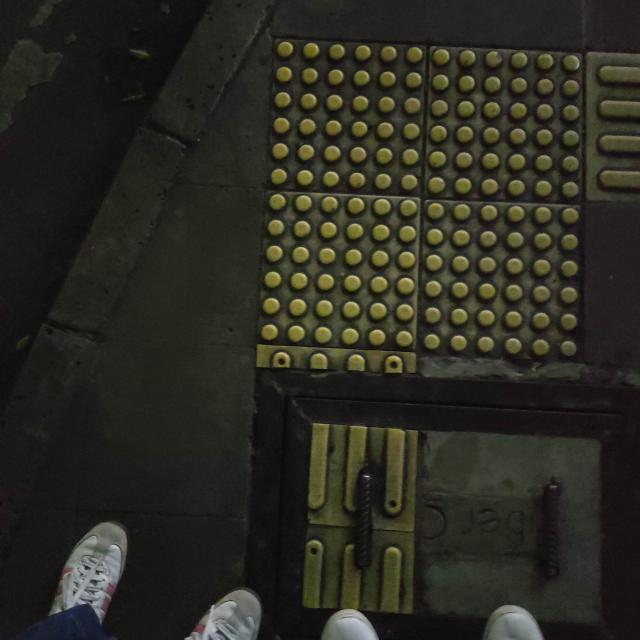kanan: (234, 15, 640, 463)
